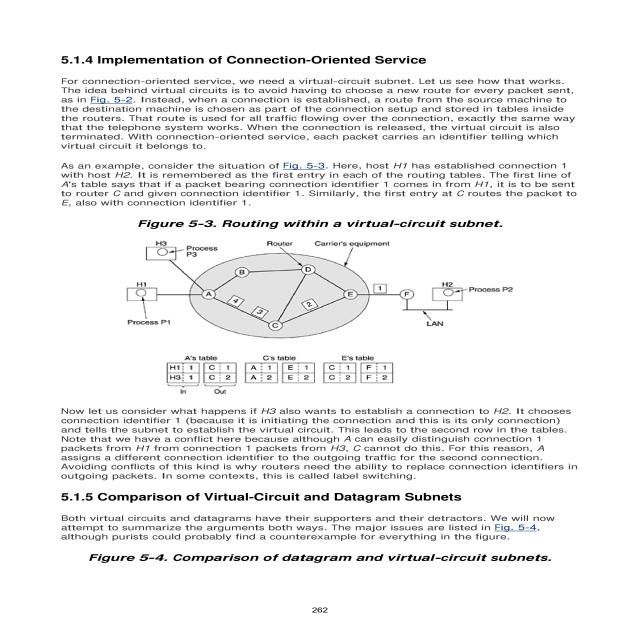diagram: (98, 216, 594, 400)
